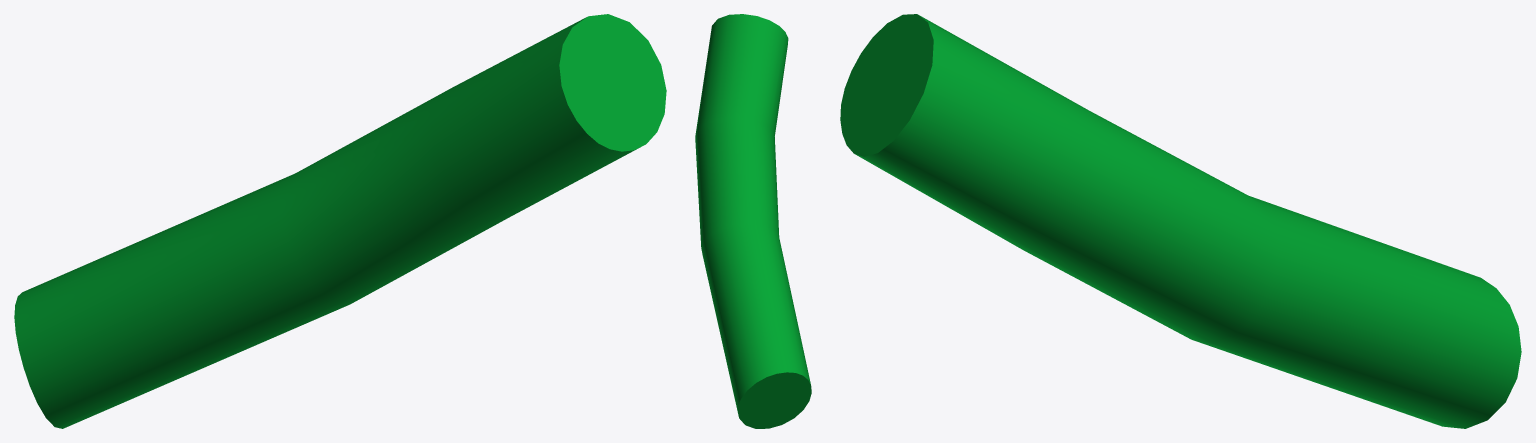
The model's file is lacY.glb.
The picture shows the model from 3 angles, left to right: view 1: azimuth 30°, elevation 25°; view 2: azimuth 150°, elevation 25°; view 3: azimuth 270°, elevation 25°; orthographic projection. The views are drawn at different scales.
Visible parts, largest first — view 1: lacY; view 2: lacY; view 3: lacY.
Boxes of the visible parts, box(x1,y1,x2,y2) form: lacY: box(14, 14, 666, 428); lacY: box(695, 14, 811, 428); lacY: box(840, 14, 1521, 428).
Size of the model in its own units: 0.3086 by 0.3676 by 0.4094.
